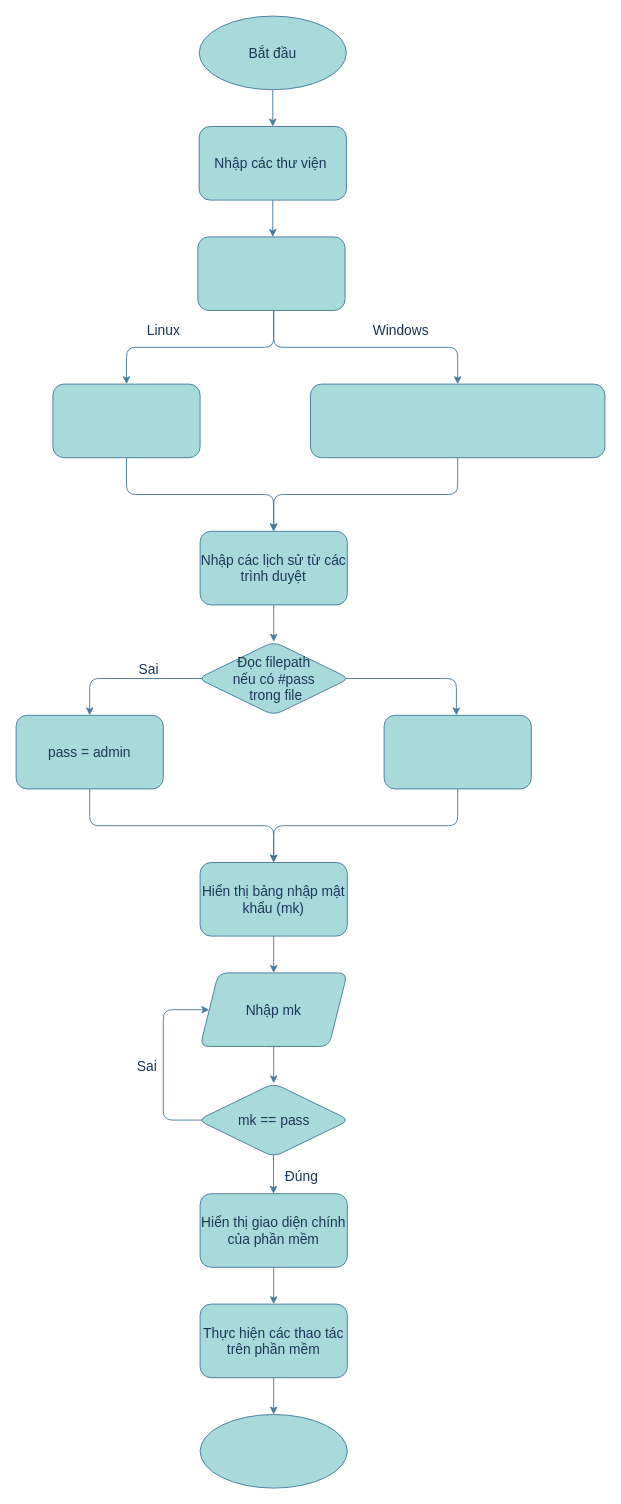
Image size: 621x1504. Some labels were removed from this diagram. The shapes that lost their labels are listed below. From the top down, each one's centre as x and y in pixels, then its label:
pixel 271 273: Lấy thông tin hệ điều hành
pixel 126 420: filepath = "/etc/hosts"
pixel 457 420: filepath = "C:\Windows\System32\drivers\etc\hosts"
pixel 457 751: pass = (#pass {mật khẩu} )
pixel 273 1451: Kết thúc phần mềm khi bấm nút thoát
